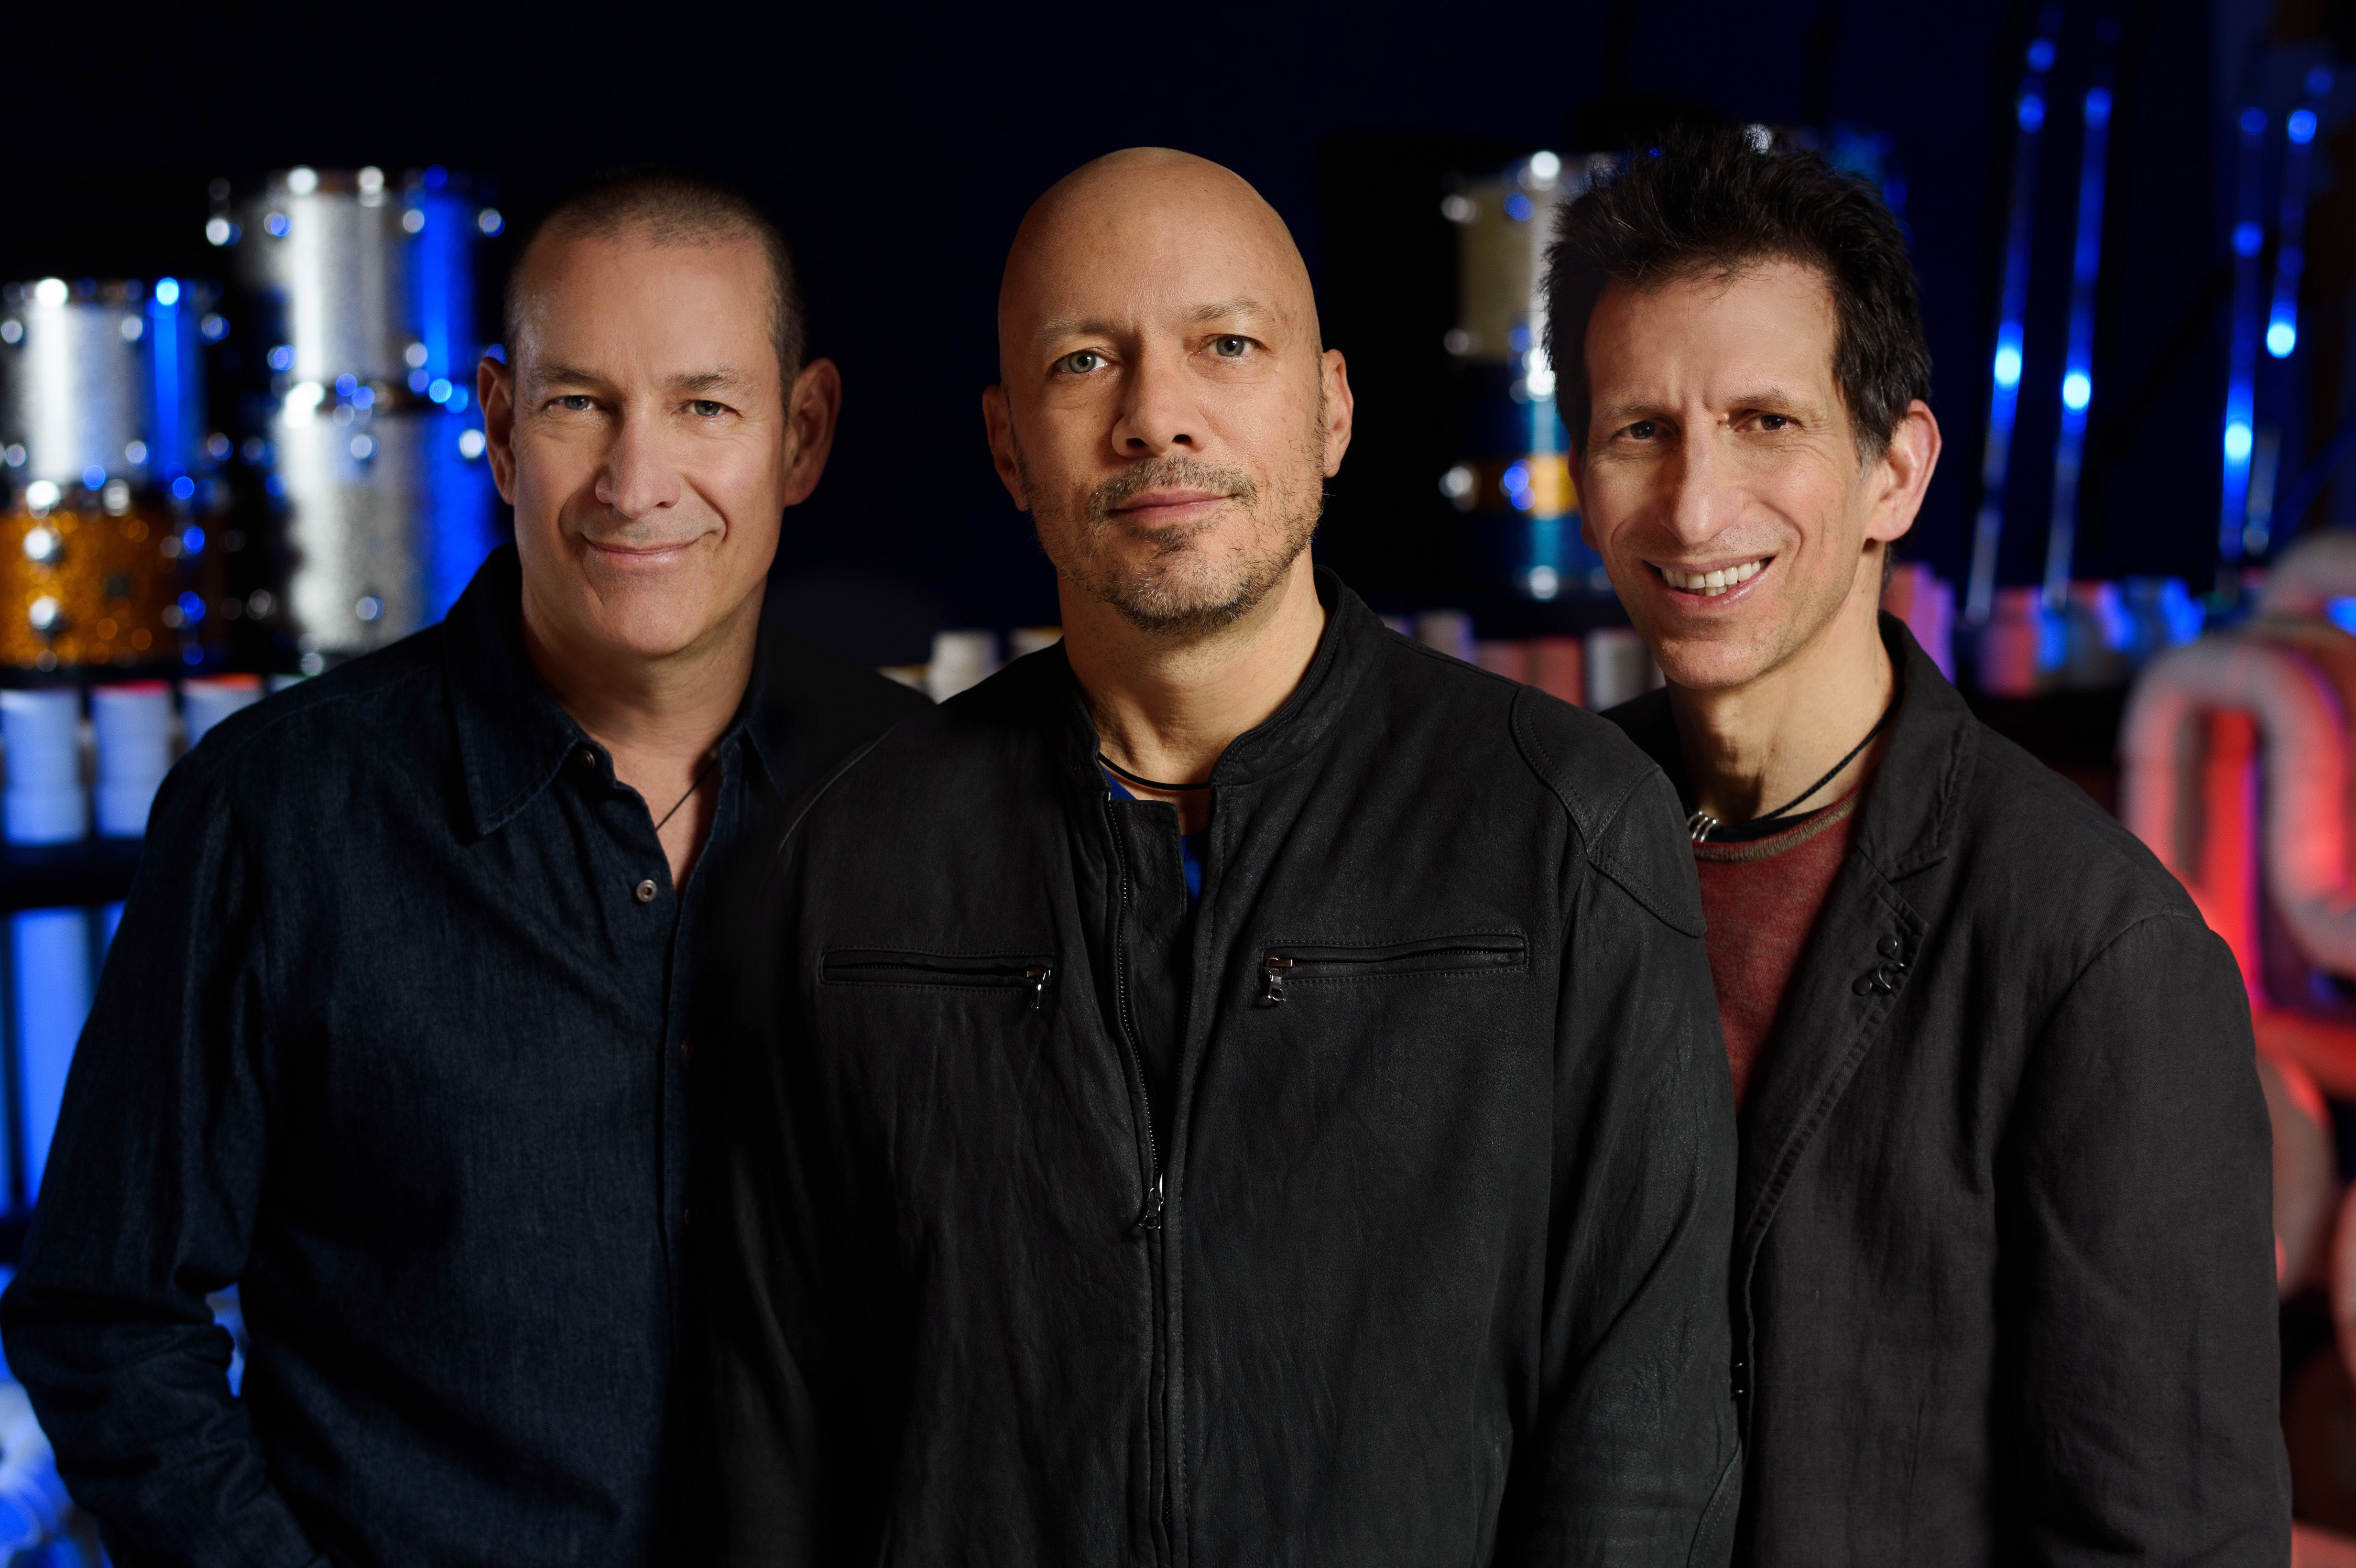bad: (1019, 275, 1336, 593), (487, 311, 805, 628), (1547, 311, 1866, 628), (2011, 98, 2041, 128)
